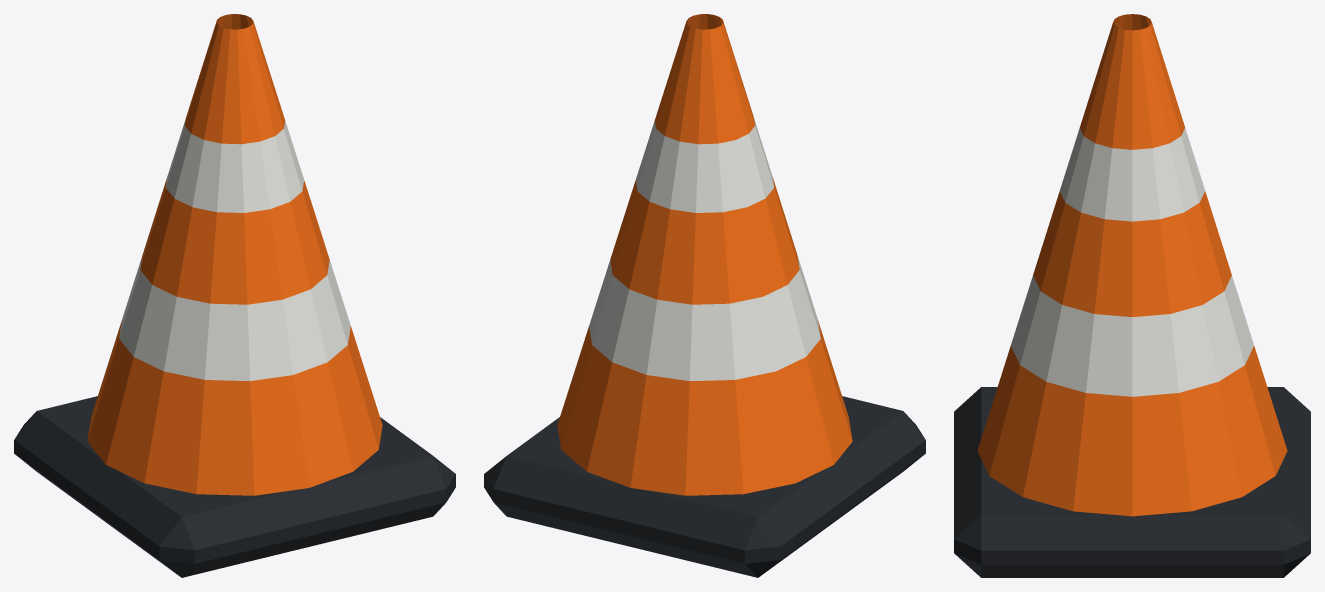
3 views of the same model, side by side, from view 1: azimuth 30°, elevation 25°; view 2: azimuth 150°, elevation 25°; view 3: azimuth 270°, elevation 25° (orthographic). The views are drawn at different scales.
Parts seen in each view (by area): view 1: Body.010; view 2: Body.010; view 3: Body.010.
Part boxes in pixels (x1,y1,x2,y2): Body.010: (14,14,455,577); Body.010: (484,14,925,577); Body.010: (954,14,1310,577).
Bounding box in the file's own units: 0.46 × 0.7 × 0.46.
